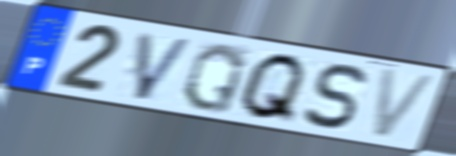2: (53, 23, 127, 97)
Q: (236, 50, 310, 126), (179, 41, 250, 117)
S: (300, 62, 370, 133)
V: (369, 65, 441, 142), (131, 29, 198, 103)
